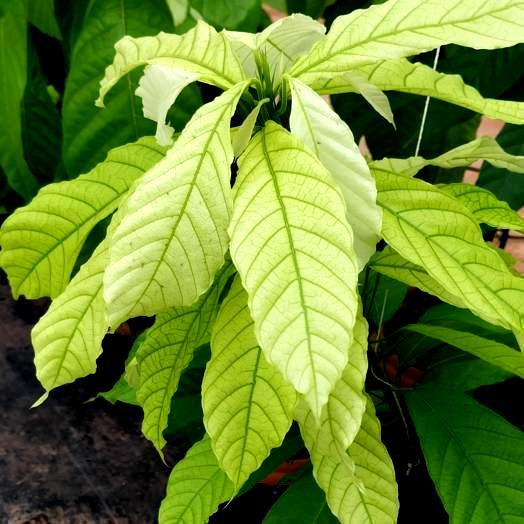Iron: (230, 121, 356, 417), (104, 81, 246, 326), (0, 137, 164, 298), (292, 0, 523, 86), (408, 385, 523, 523)
